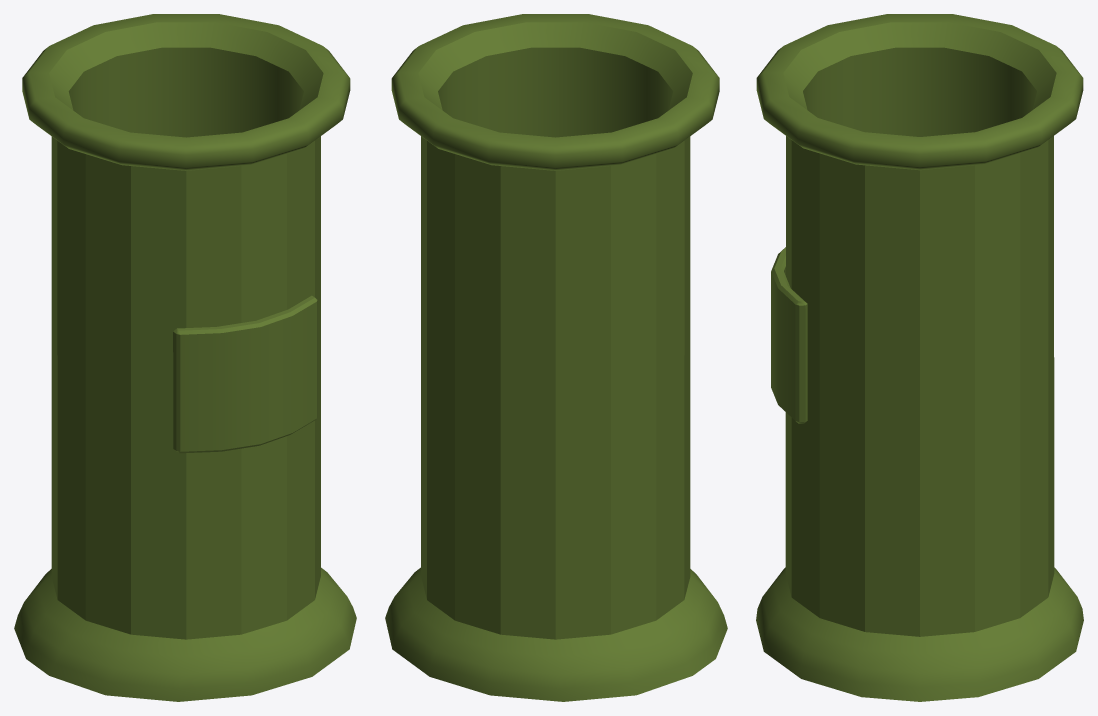
The model's file is trash_can_low.fbx.
3 views of the same model, side by side, from view 1: azimuth 30°, elevation 25°; view 2: azimuth 150°, elevation 25°; view 3: azimuth 270°, elevation 25° (orthographic).
Parts seen in each view (by area): view 1: trashcan_lod0; view 2: trashcan_lod0; view 3: trashcan_lod0.
Part boxes in pixels (x1,y1,x2,y2): trashcan_lod0: (14, 14, 356, 701); trashcan_lod0: (385, 14, 727, 701); trashcan_lod0: (756, 14, 1083, 701).
Size of the model in its own units: 260 by 457 by 247.
